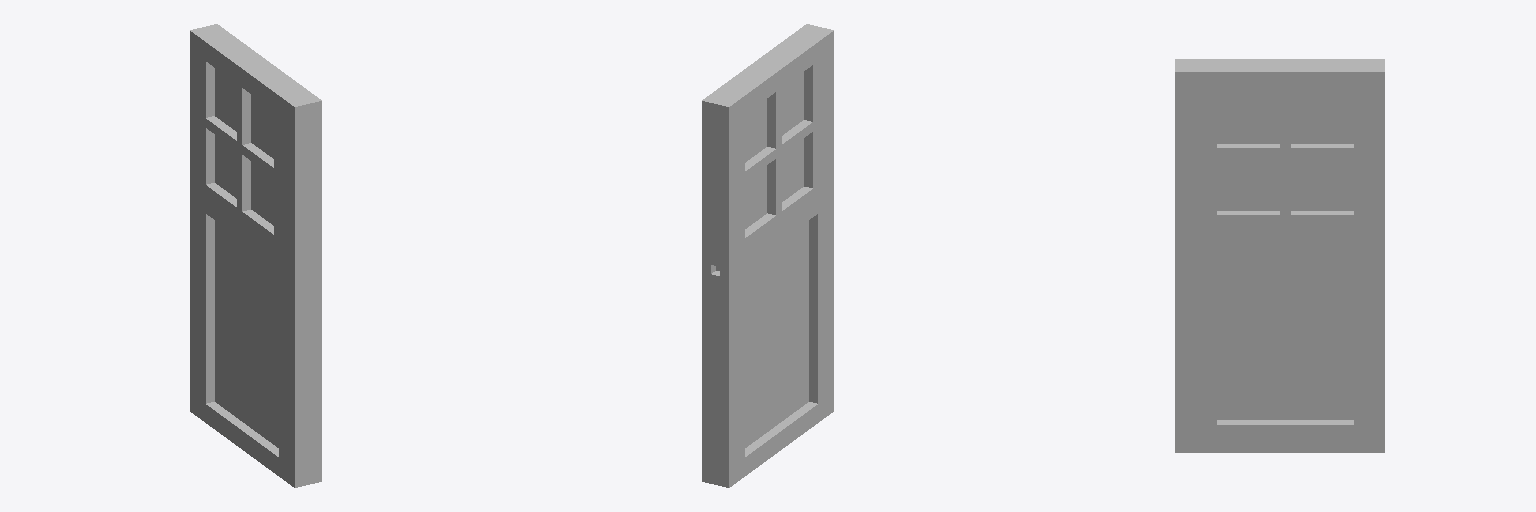
The model's file is door.obj.
3 renders of one model, left to right at view 1: azimuth 30°, elevation 25°; view 2: azimuth 150°, elevation 25°; view 3: azimuth 270°, elevation 25°, orthographic.
Visible parts, largest first — view 1: object 1; view 2: object 1; view 3: object 1.
Part boxes in pixels (x1,y1,x2,y2): object 1: (190, 24, 321, 487); object 1: (702, 24, 833, 487); object 1: (1175, 59, 1384, 452).
Size of the model in its own units: 0.3 by 4 by 2.